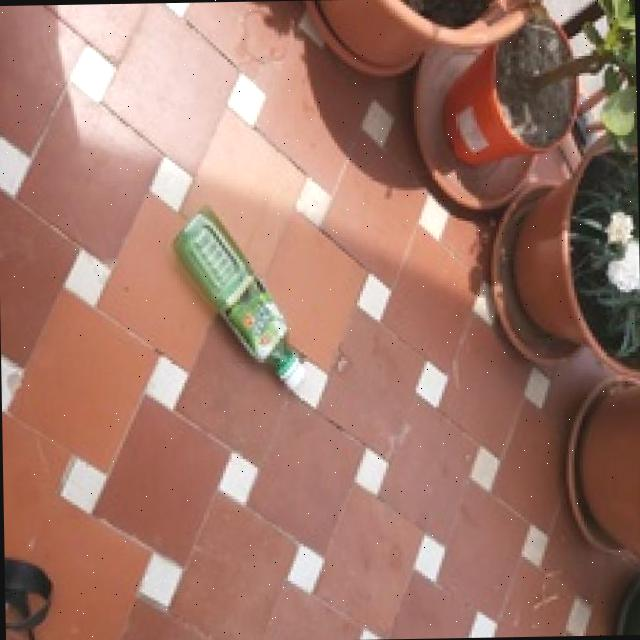bottle: (164, 204, 334, 420)
label: (220, 266, 300, 370)
